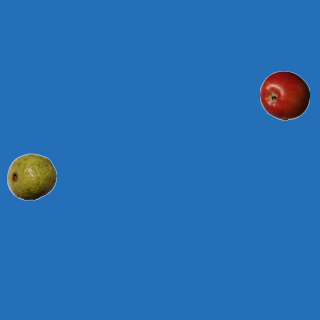Apple Braeburn: (259, 70, 309, 120)
Guava: (6, 151, 56, 201)
